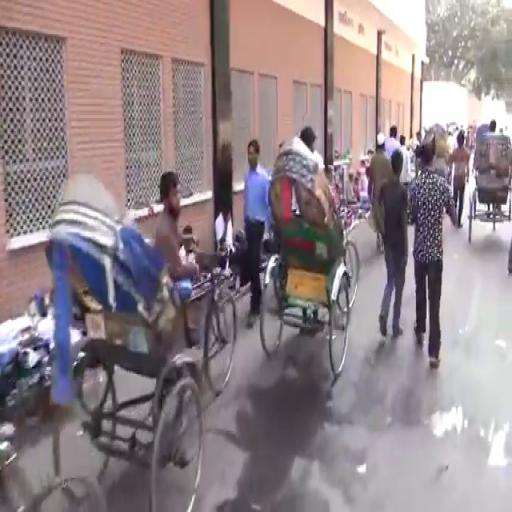rickshaw: (47, 166, 238, 512), (255, 135, 360, 379), (467, 112, 510, 265), (423, 122, 451, 182)
